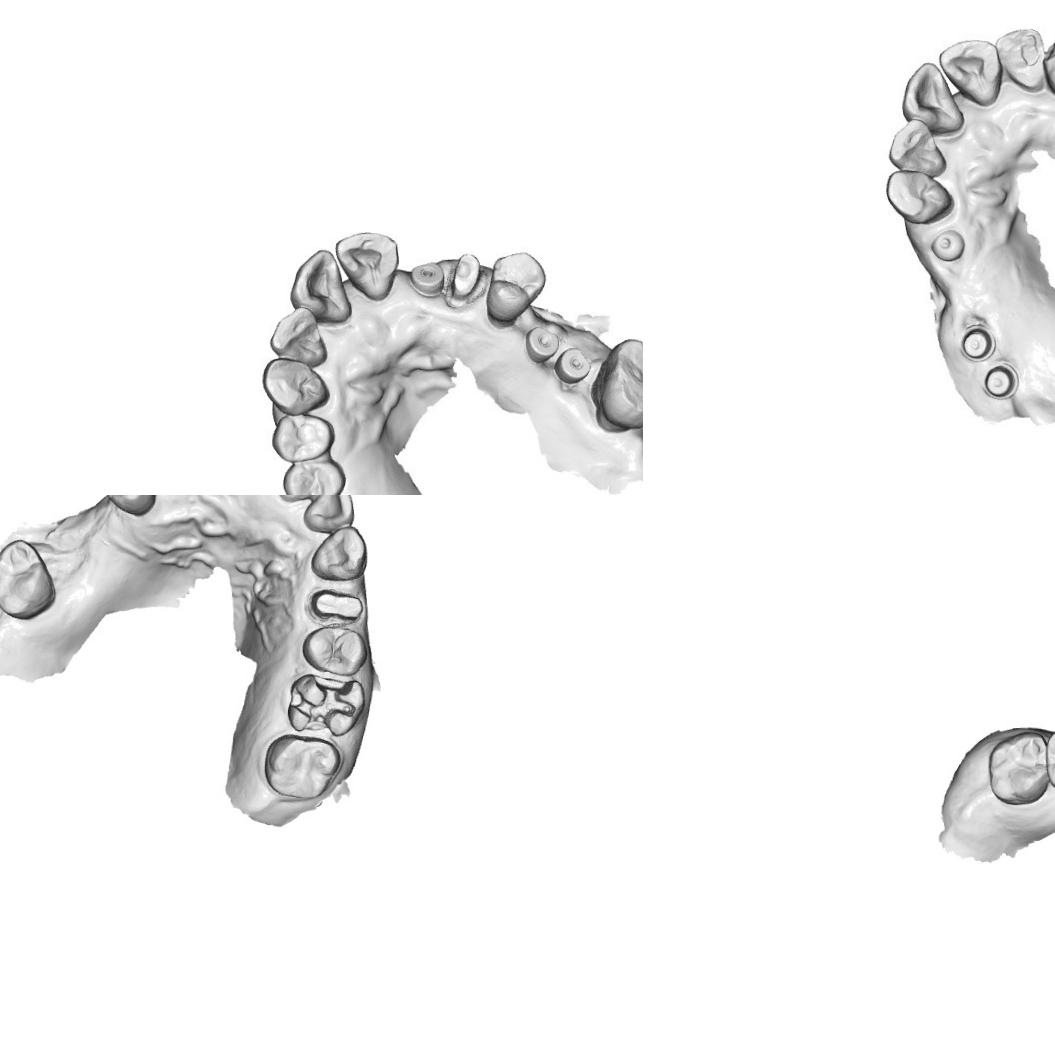canine: (256, 354, 331, 416), (878, 168, 956, 226), (309, 524, 370, 583), (1041, 24, 1055, 101)
crown: (306, 586, 364, 626), (448, 246, 484, 306)
implant: (924, 228, 970, 264), (523, 325, 562, 365), (408, 258, 447, 297), (982, 361, 1018, 400), (956, 324, 997, 358), (556, 346, 591, 382)
incisor: (332, 230, 401, 310), (898, 59, 965, 137), (935, 38, 1004, 110), (288, 246, 352, 321), (994, 21, 1048, 94), (886, 116, 948, 178), (266, 312, 330, 365), (300, 495, 356, 534)
inlay: (286, 672, 365, 738)
molar: (262, 732, 344, 802), (589, 333, 643, 435), (985, 730, 1052, 806), (0, 535, 58, 622)
premolar: (484, 248, 548, 328), (301, 624, 370, 677), (269, 410, 336, 464), (273, 456, 347, 495), (93, 495, 159, 517)
